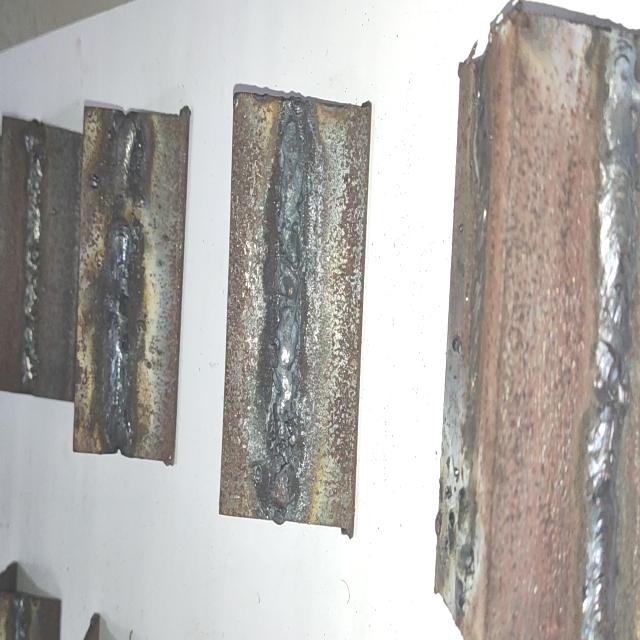Bad Weld: (264, 97, 306, 523), (107, 117, 144, 446)
Defect: (263, 378, 301, 512), (105, 302, 134, 439), (108, 156, 144, 256)
Good Weld: (582, 23, 638, 640), (20, 128, 44, 388)
